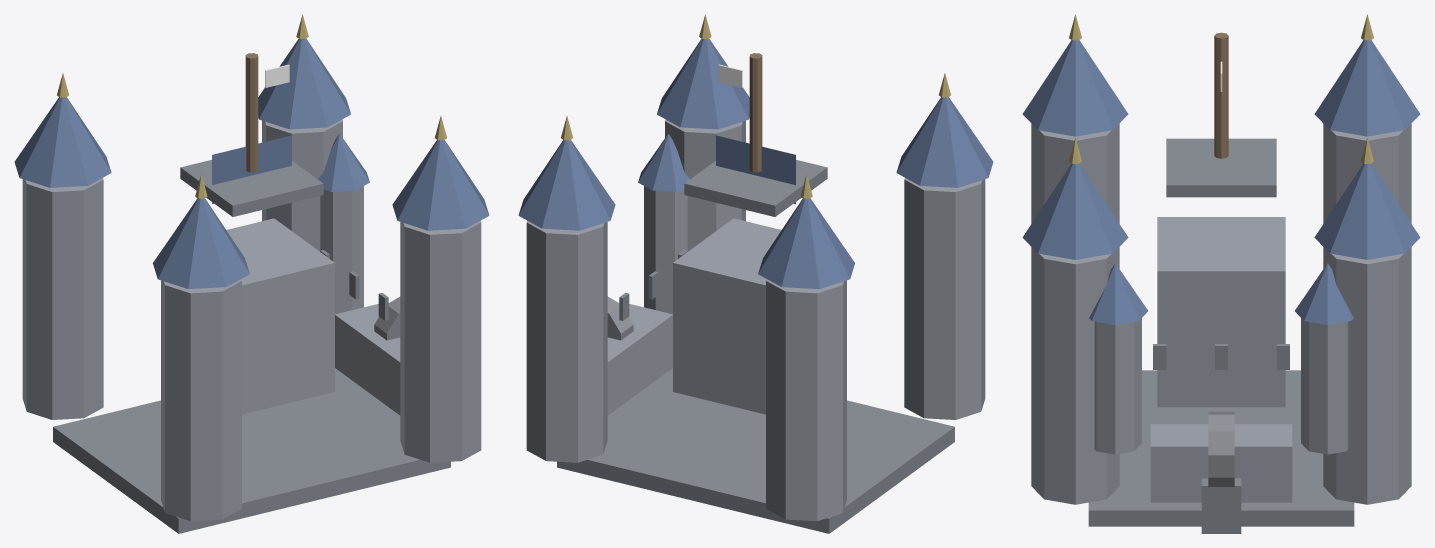
File: vanguard_castle.glb
3 views of the same model, side by side, from view 1: azimuth 30°, elevation 25°; view 2: azimuth 150°, elevation 25°; view 3: azimuth 270°, elevation 25° (orthographic). The views are drawn at different scales.
Visible parts, largest first — view 1: vanguard_castle; view 2: vanguard_castle; view 3: vanguard_castle.
Boxes of the visible parts, left/top/right/bottom form: vanguard_castle: left=14, top=14, right=489, bottom=533; vanguard_castle: left=518, top=14, right=993, bottom=533; vanguard_castle: left=1022, top=14, right=1420, bottom=533.
Bounding box in the file's own units: 97.56 × 105 × 90.
